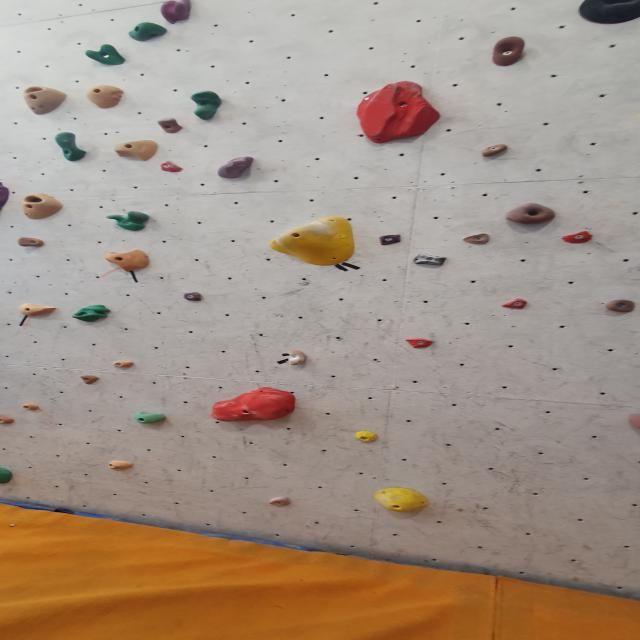Crimp: (558, 230, 599, 248), (477, 142, 513, 159), (498, 298, 534, 314), (458, 233, 494, 248), (402, 337, 437, 352), (374, 232, 406, 248), (352, 429, 382, 444), (158, 161, 186, 176), (108, 458, 136, 472), (267, 496, 295, 509), (78, 376, 103, 388), (181, 290, 204, 302), (112, 360, 136, 370), (0, 414, 16, 427)
Jug: (489, 35, 532, 68), (187, 88, 225, 121), (53, 130, 90, 162), (84, 44, 130, 68), (105, 211, 152, 233), (128, 22, 171, 43), (602, 296, 640, 314), (157, 115, 185, 133), (132, 412, 168, 426), (282, 349, 309, 366), (14, 237, 46, 250)
Pinch: (84, 85, 129, 112), (102, 250, 152, 274), (215, 156, 258, 181), (114, 139, 162, 161), (158, 0, 198, 25), (411, 251, 452, 267), (18, 304, 59, 319)
Pocket: (567, 0, 640, 27), (20, 86, 71, 117), (20, 193, 67, 221), (71, 306, 113, 324)
Sloper: (351, 81, 444, 149), (265, 214, 360, 268), (208, 386, 299, 423), (373, 486, 432, 516), (504, 203, 561, 227), (0, 468, 13, 488)
